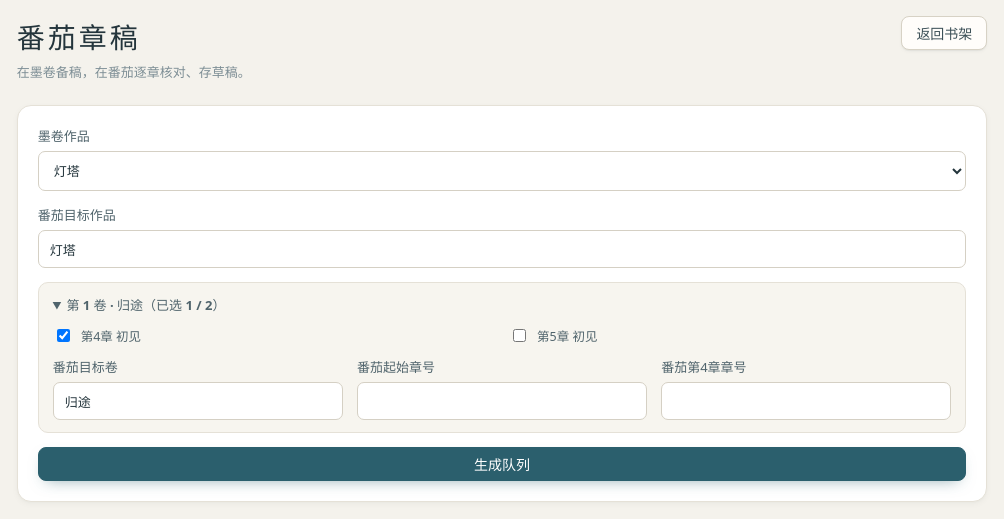
Test: stops on a stale source instead of serving the old packet
Earlier steps of the test are not shown.
Type "4" into the field labelled "番茄起始章号" at (502, 401), box top-left (357, 382), bottom-right (647, 420)
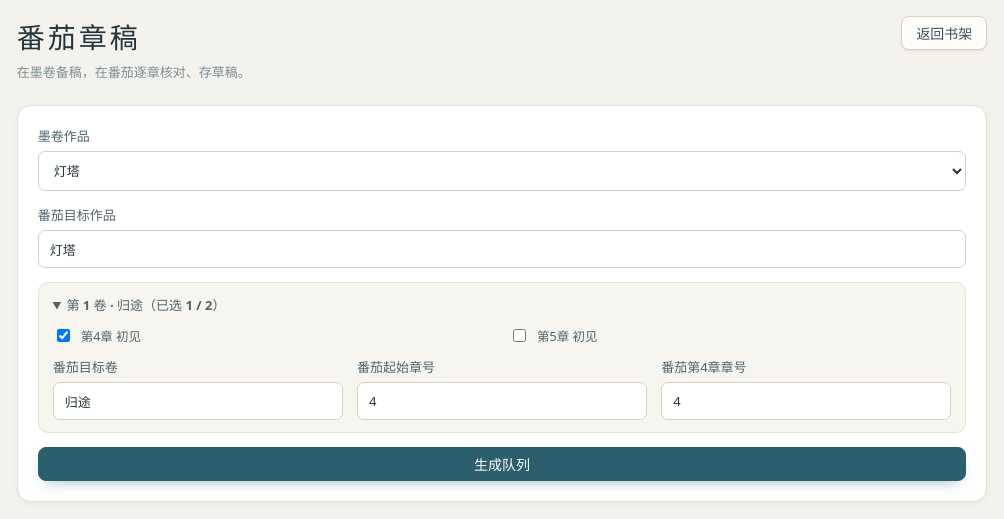
Click the button "生成队列" at (502, 464), box top-left (38, 447), bottom-right (966, 481)
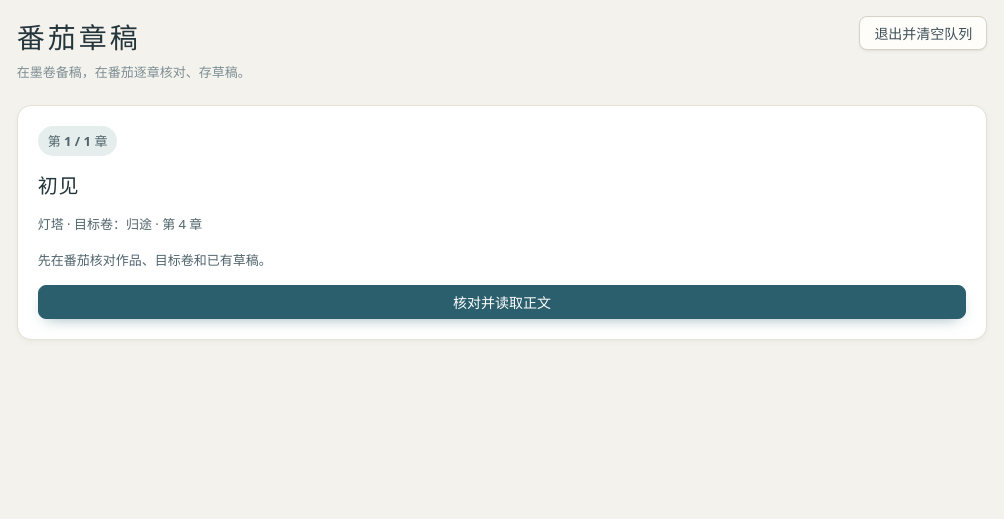
Click the button "核对并读取正文" at (502, 302), box top-left (38, 285), bottom-right (966, 319)
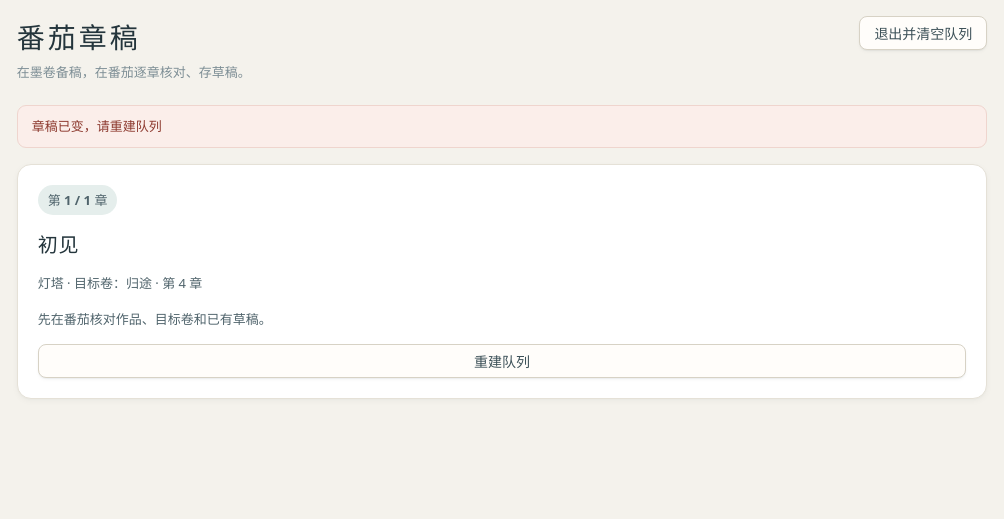
Check: the text "章稿已变，请重建队列" is shown, box top-left (17, 105), bottom-right (987, 148)
